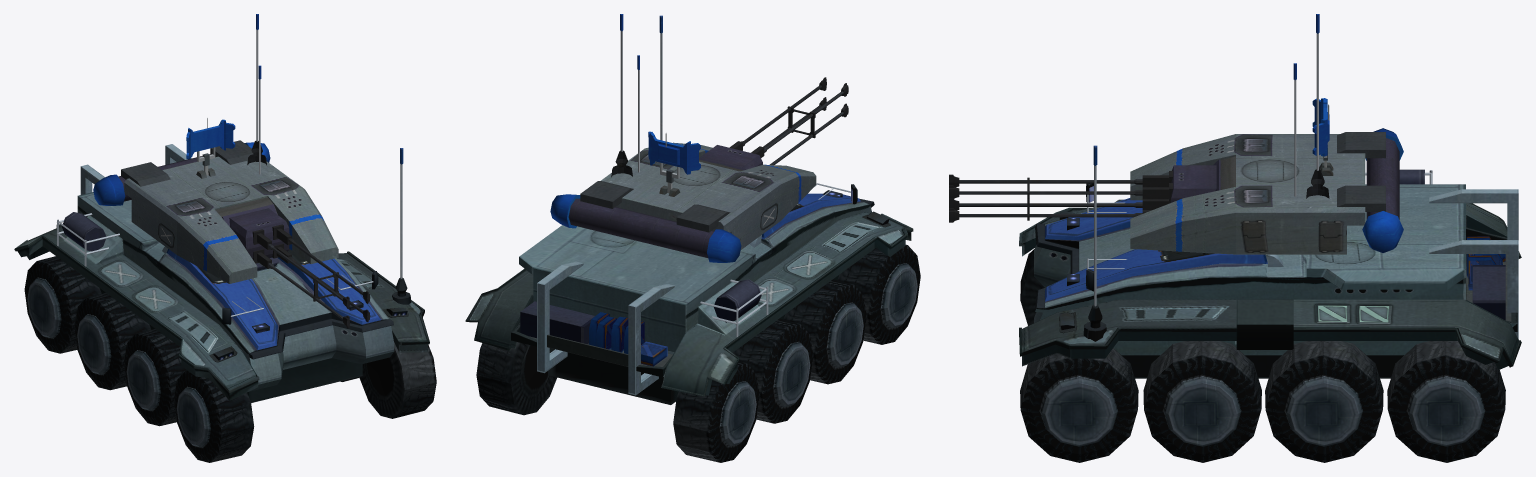
Rendered from blue_tank_01_ani.FBX.
3 renders of one model, left to right at view 1: azimuth 30°, elevation 25°; view 2: azimuth 150°, elevation 25°; view 3: azimuth 270°, elevation 25°, orthographic. The views are drawn at different scales.
Visible parts, largest first — view 1: Body, Gun_Body, Wheel_005, Wheel_008, Wheel_007, Wheel_006, Gun, Wheel_01; view 2: Body, Gun_Body, Wheel_008, Wheel_006, Wheel_007, Wheel_005, Wheel_004, Gun; view 3: Body, Gun_Body, Wheel_002, Wheel_003, Wheel_004, Wheel_01, Gun, Wheel_005.
Boxes of the visible parts, x1=… form: Body: x1=14, y1=144, x2=429, y2=402; Gun_Body: x1=93, y1=14, x2=338, y2=283; Wheel_005: x1=174, y1=370, x2=254, y2=462; Wheel_008: x1=24, y1=256, x2=101, y2=353; Wheel_007: x1=74, y1=292, x2=151, y2=390; Wheel_006: x1=124, y1=329, x2=186, y2=426; Gun: x1=222, y1=204, x2=370, y2=328; Wheel_01: x1=359, y1=342, x2=436, y2=418; Body: x1=465, y1=15, x2=913, y2=404; Gun_Body: x1=550, y1=14, x2=816, y2=262; Wheel_008: x1=673, y1=361, x2=759, y2=462; Wheel_006: x1=783, y1=279, x2=866, y2=384; Wheel_007: x1=733, y1=318, x2=813, y2=423; Wheel_005: x1=837, y1=244, x2=920, y2=344; Wheel_004: x1=476, y1=342, x2=557, y2=415; Gun: x1=699, y1=77, x2=848, y2=170; Body: x1=1019, y1=145, x2=1521, y2=378; Gun_Body: x1=1130, y1=14, x2=1403, y2=254; Wheel_002: x1=1143, y1=341, x2=1261, y2=462; Wheel_003: x1=1265, y1=341, x2=1383, y2=462; Wheel_004: x1=1387, y1=341, x2=1505, y2=462; Wheel_01: x1=1020, y1=348, x2=1138, y2=462; Gun: x1=949, y1=159, x2=1220, y2=222; Wheel_005: x1=1020, y1=249, x2=1044, y2=325.
Size of the model in its own units: 11.98 by 16.02 by 20.08.
